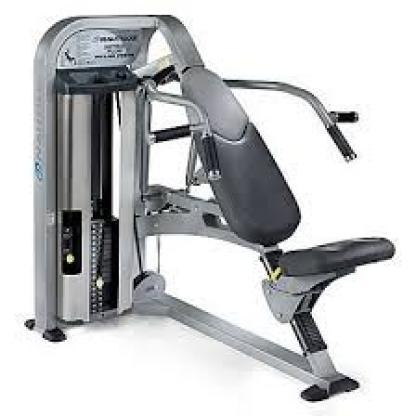Chest Press machine: (21, 0, 402, 416)
